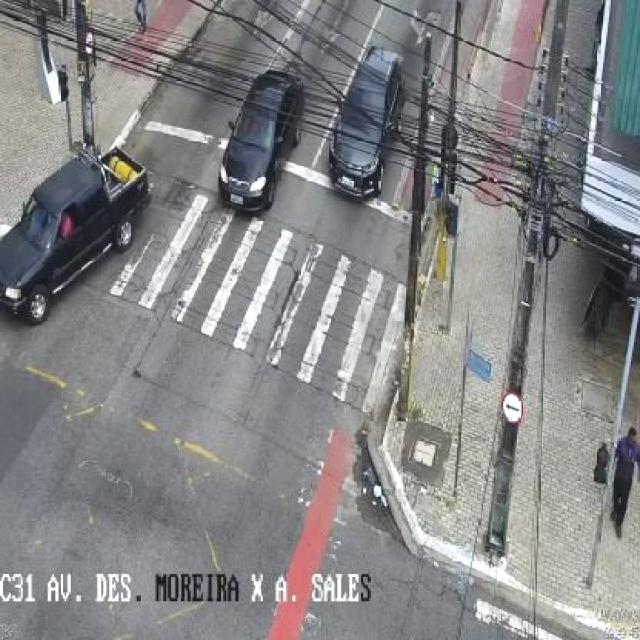Car: (220, 69, 303, 212), (330, 43, 405, 198)
Truck: (0, 142, 151, 326)
